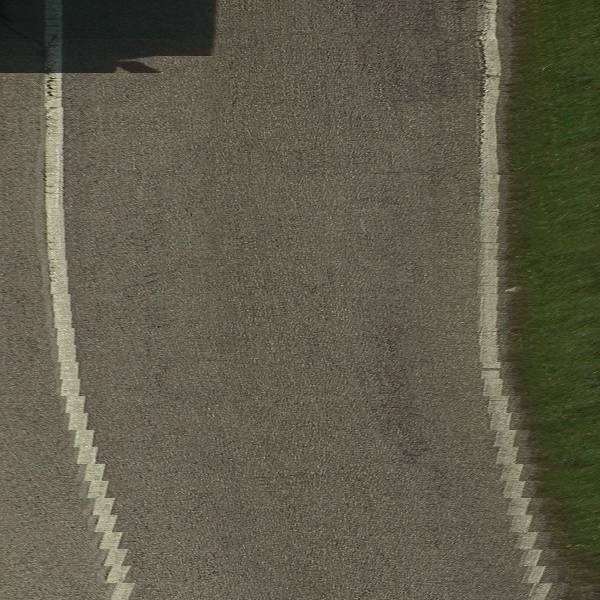road_damage: (367, 311, 438, 479)
